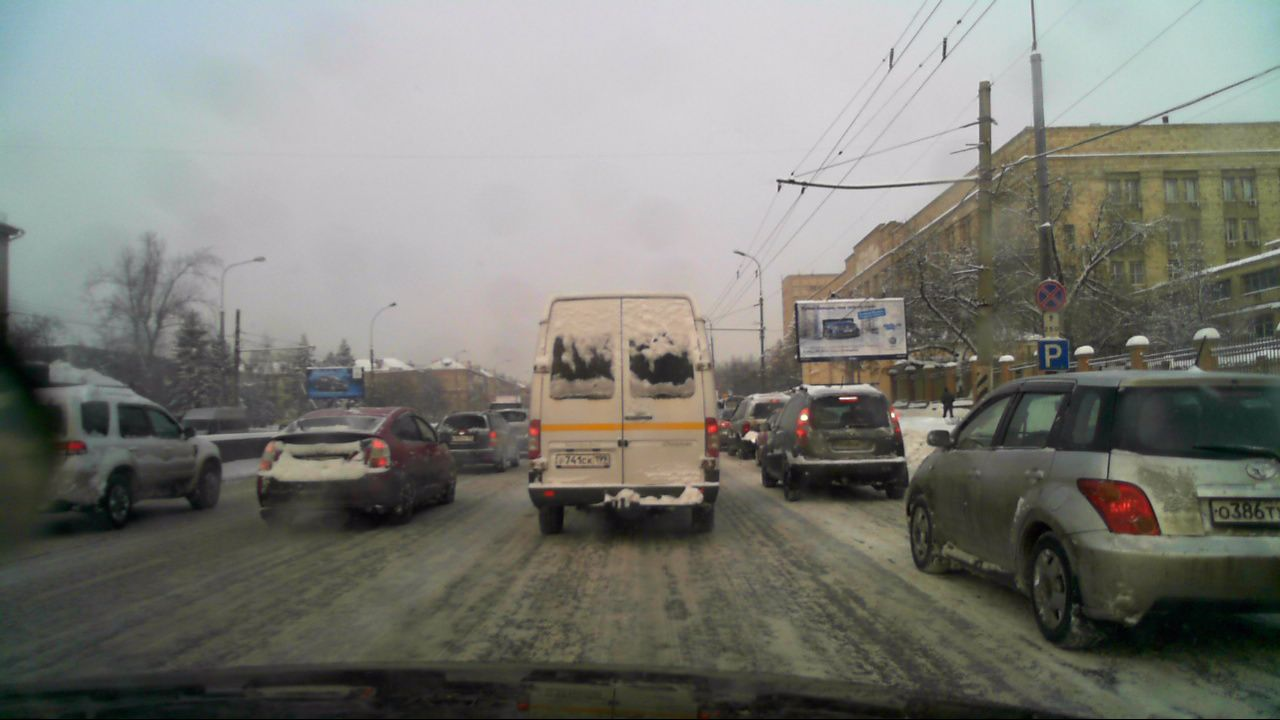No Parking: (1034, 276, 1064, 311)
